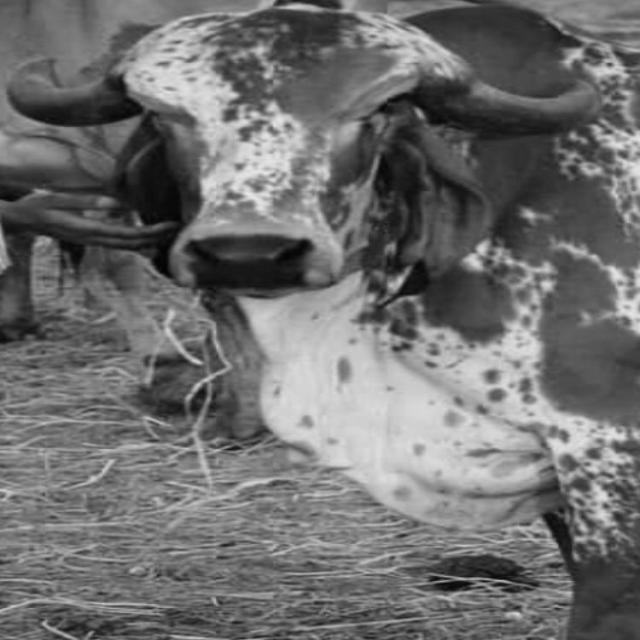Cow: (7, 0, 637, 638)
